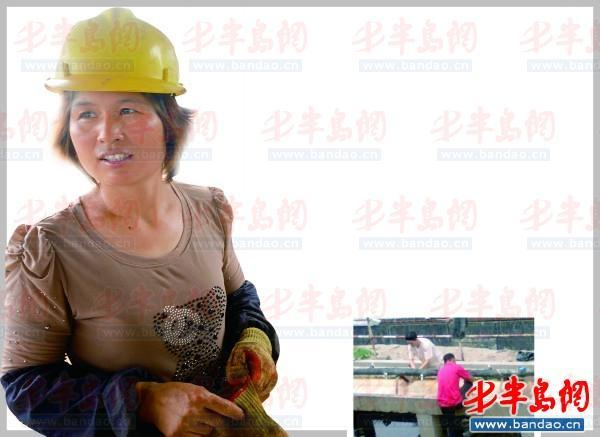helmet: (44, 9, 186, 100)
